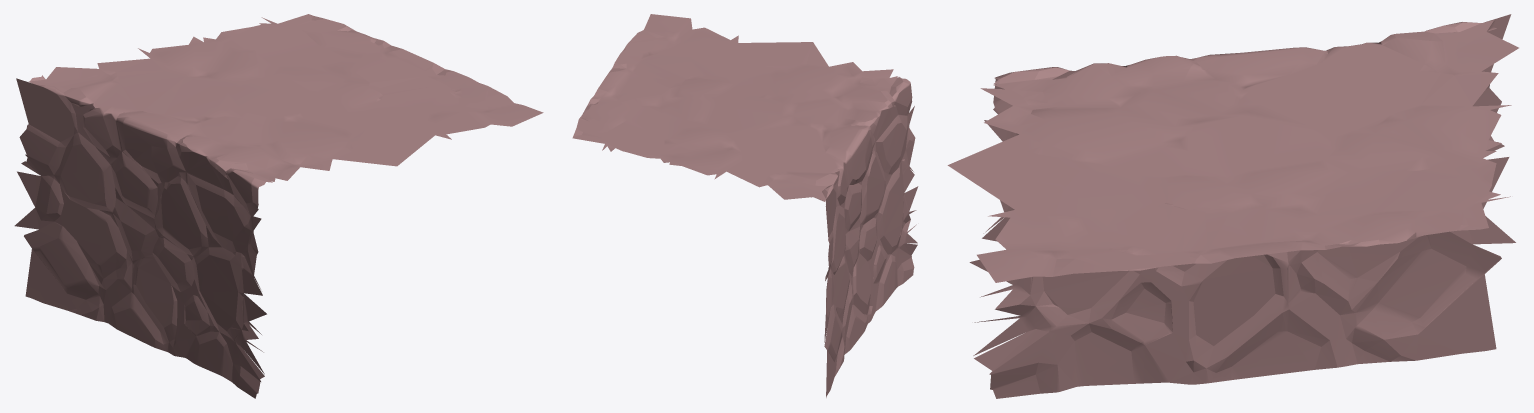
The model's file is pleateauArea1.fbx_PolyShape__46__003LODs.fbx.
The picture shows the model from 3 angles, left to right: view 1: azimuth 30°, elevation 25°; view 2: azimuth 150°, elevation 25°; view 3: azimuth 270°, elevation 25°; orthographic projection. The views are drawn at different scales.
Visible parts, largest first — view 1: PolyShape (46).003_LOD0; view 2: PolyShape (46).003_LOD0; view 3: PolyShape (46).003_LOD0.
Part boxes in pixels (x1,y1,x2,y2): PolyShape (46).003_LOD0: (14, 14, 543, 398); PolyShape (46).003_LOD0: (572, 14, 918, 397); PolyShape (46).003_LOD0: (947, 14, 1518, 398).
Size of what is drawn, in the model's own units: 7229 by 4180 by 6477.
